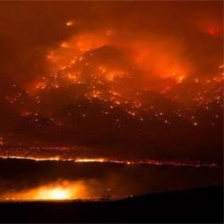fire: (36, 19, 202, 112), (2, 148, 159, 210)
